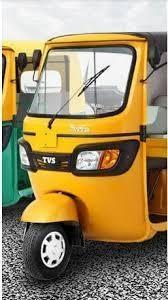keke: (21, 27, 168, 299)
